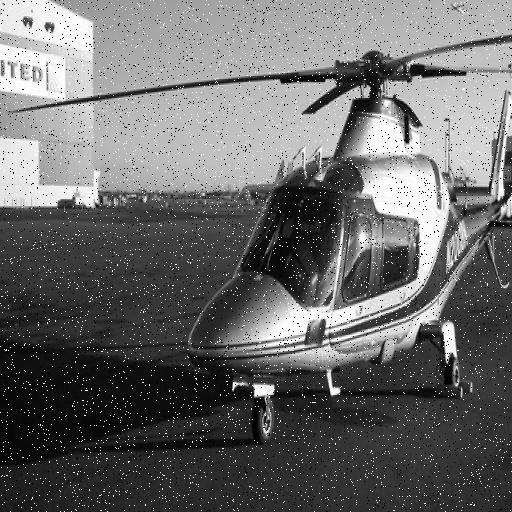helicopter: (86, 6, 512, 480)
